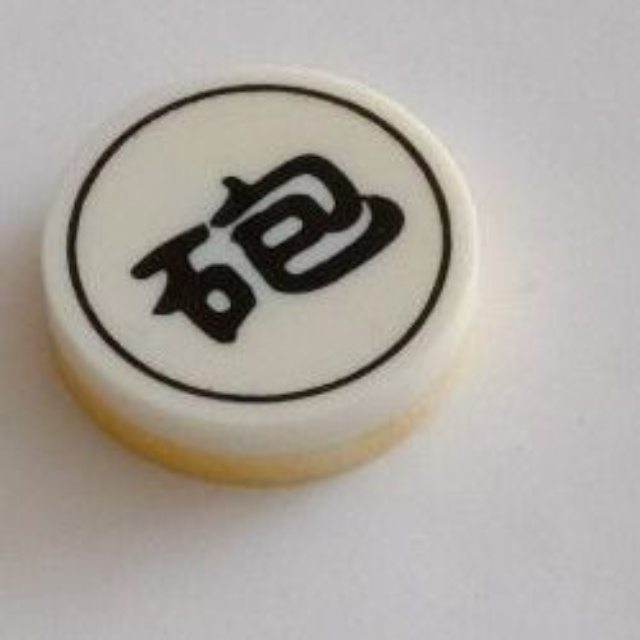black_phao: (35, 57, 481, 488)
